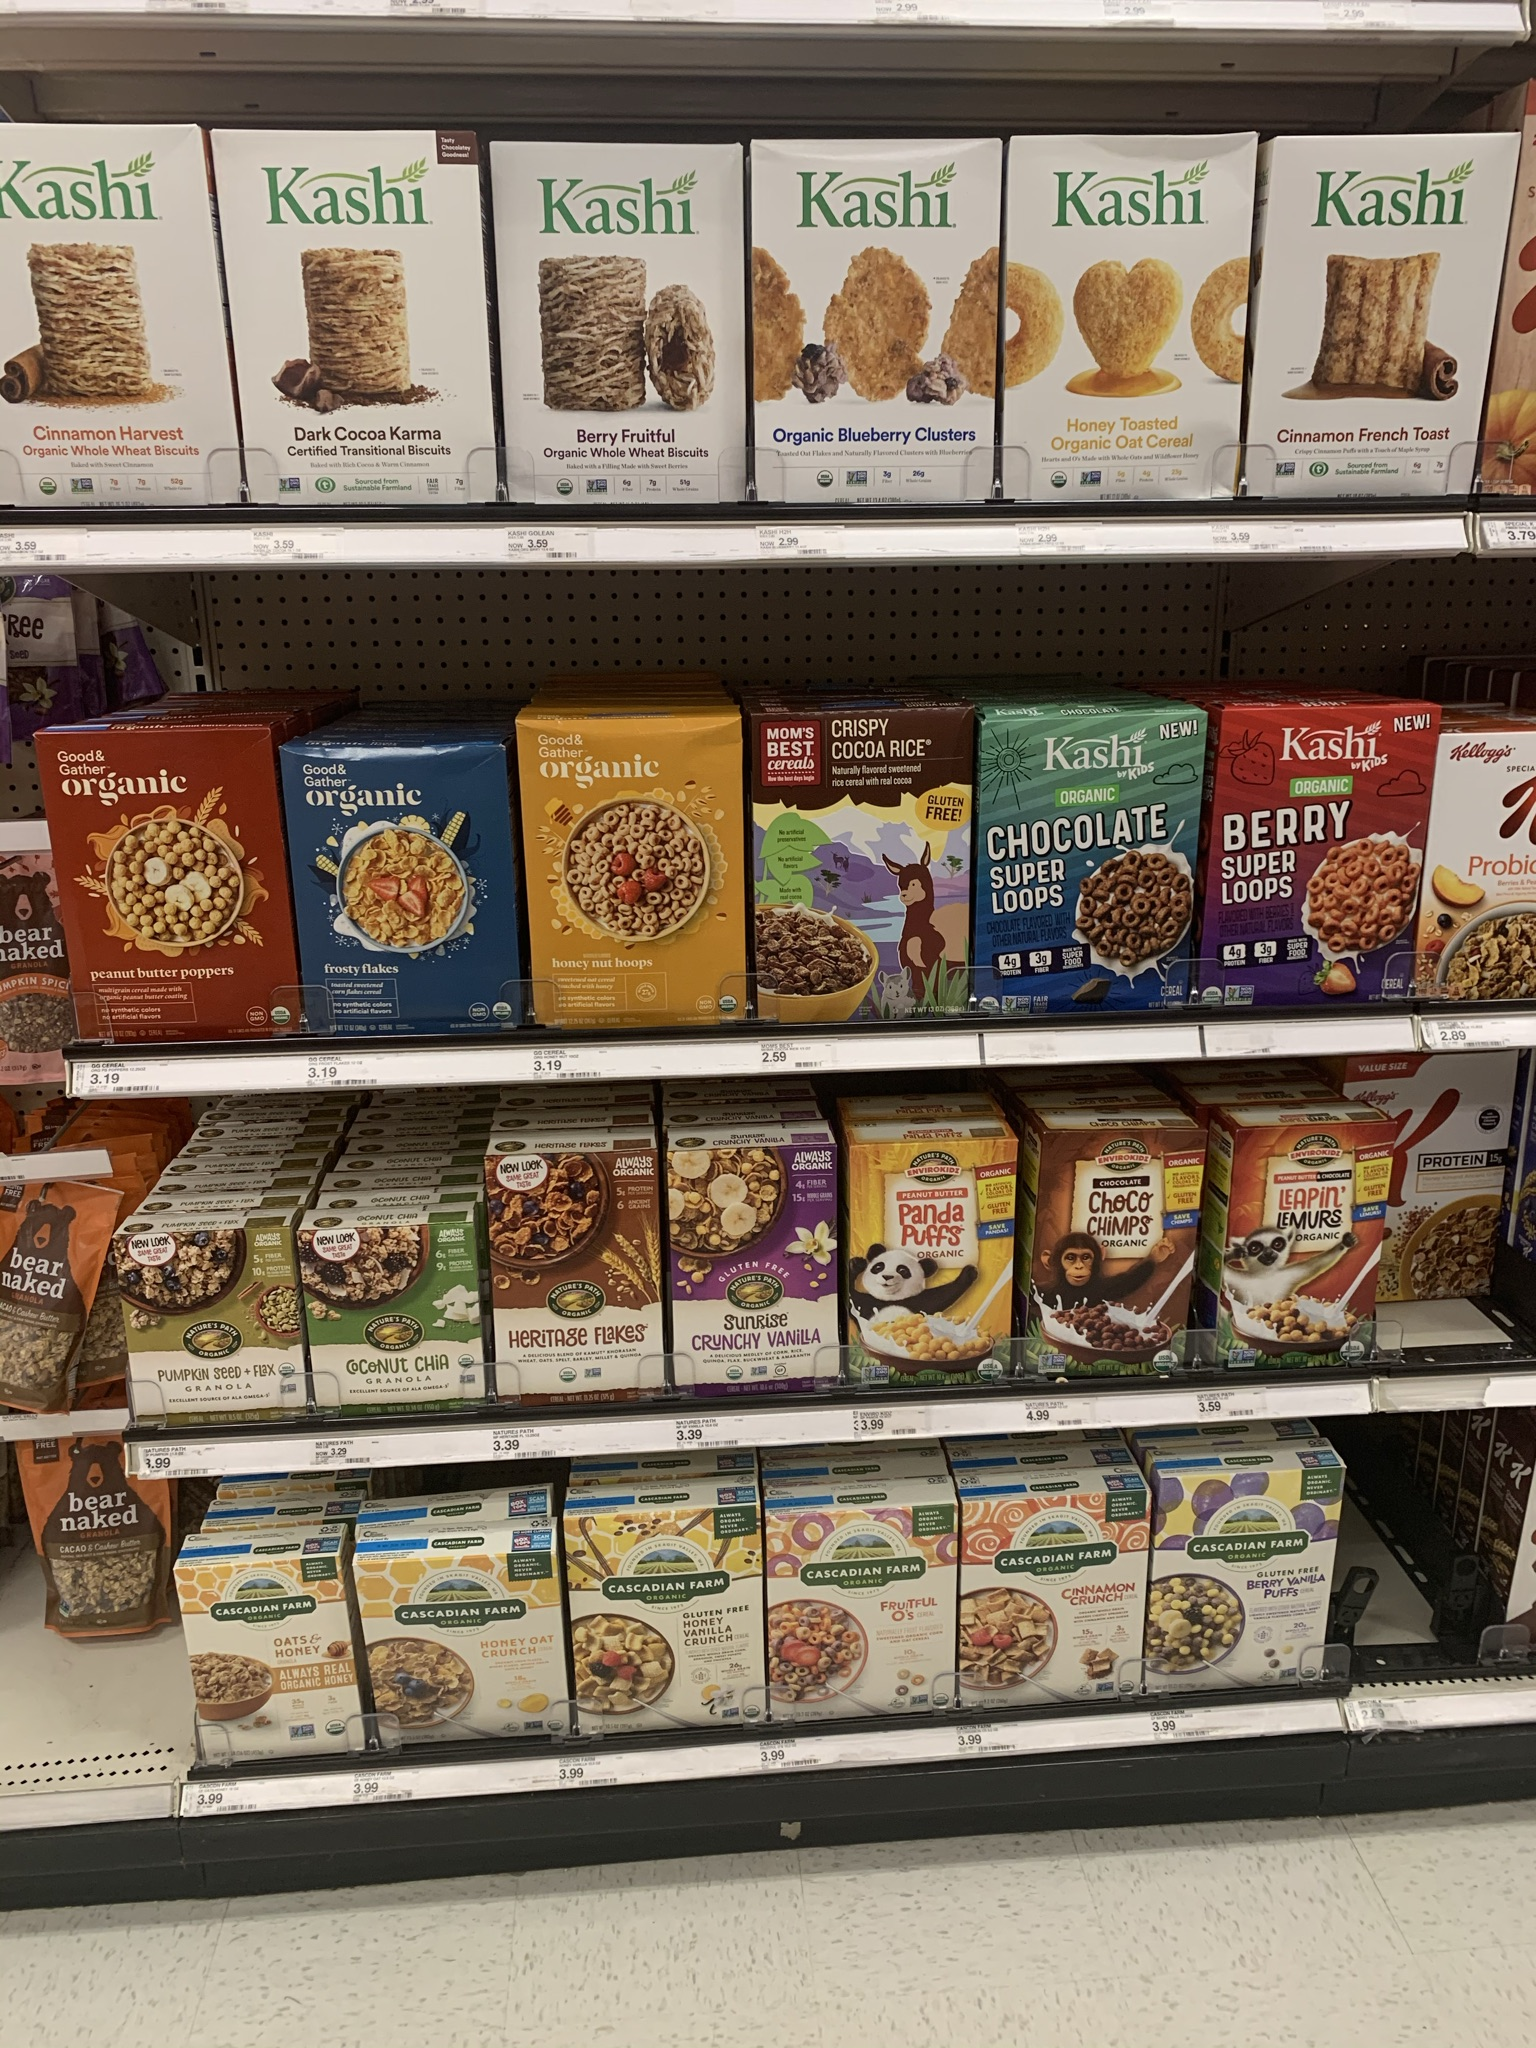cereal: (44, 727, 295, 1059), (278, 751, 526, 1030), (1205, 710, 1425, 1021), (528, 719, 749, 1022), (979, 718, 1197, 1013), (758, 726, 970, 1018), (353, 1553, 574, 1788), (553, 1517, 758, 1759), (481, 1159, 671, 1409), (762, 1508, 957, 1743), (1037, 1126, 1204, 1401), (663, 1151, 844, 1397), (841, 1143, 1020, 1388), (962, 1492, 1137, 1732), (1158, 1466, 1331, 1709), (177, 1561, 357, 1793), (113, 1234, 302, 1434), (1233, 1134, 1376, 1379), (295, 1238, 479, 1421), (1433, 731, 1536, 1008)
